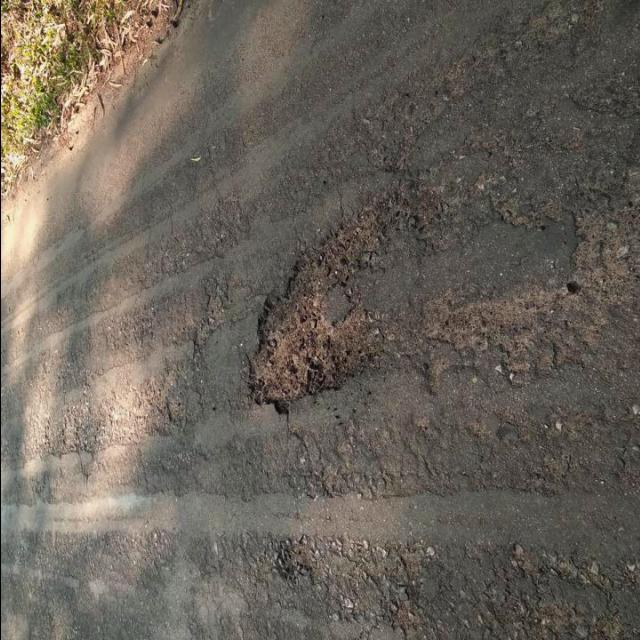pothole: (218, 173, 442, 430)
